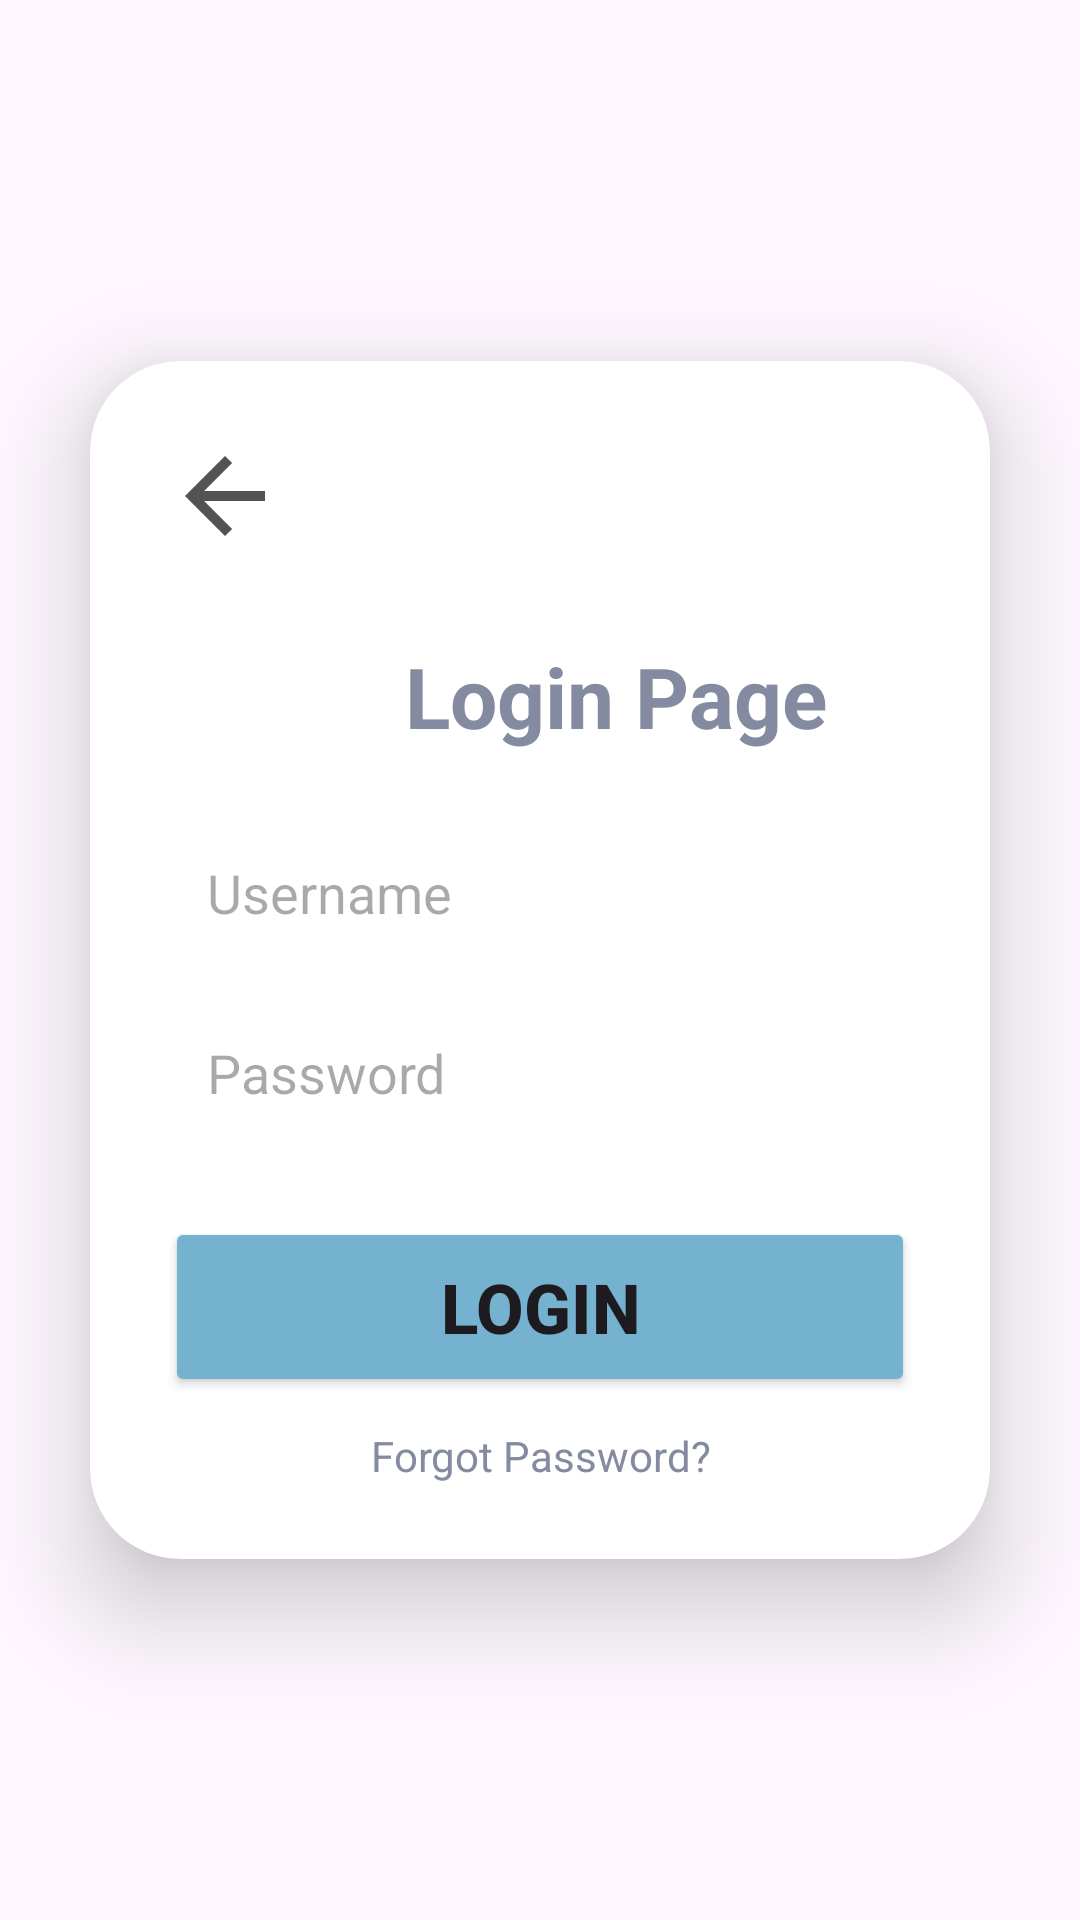

Named icons in this screenshot (1080 x 1920) and their bounding boxes, bbox=[x1, y1, x2, y2]:
arrow back: bbox=[185, 456, 265, 536]
